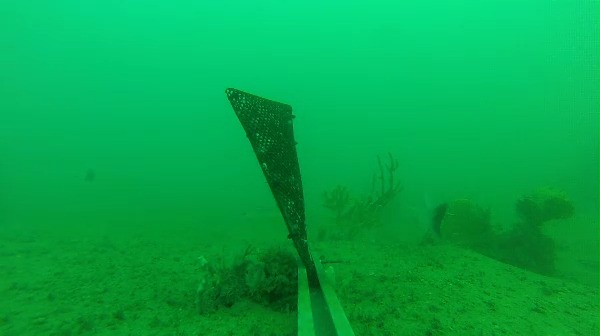fish: (377, 184, 452, 245), (67, 163, 103, 187)
